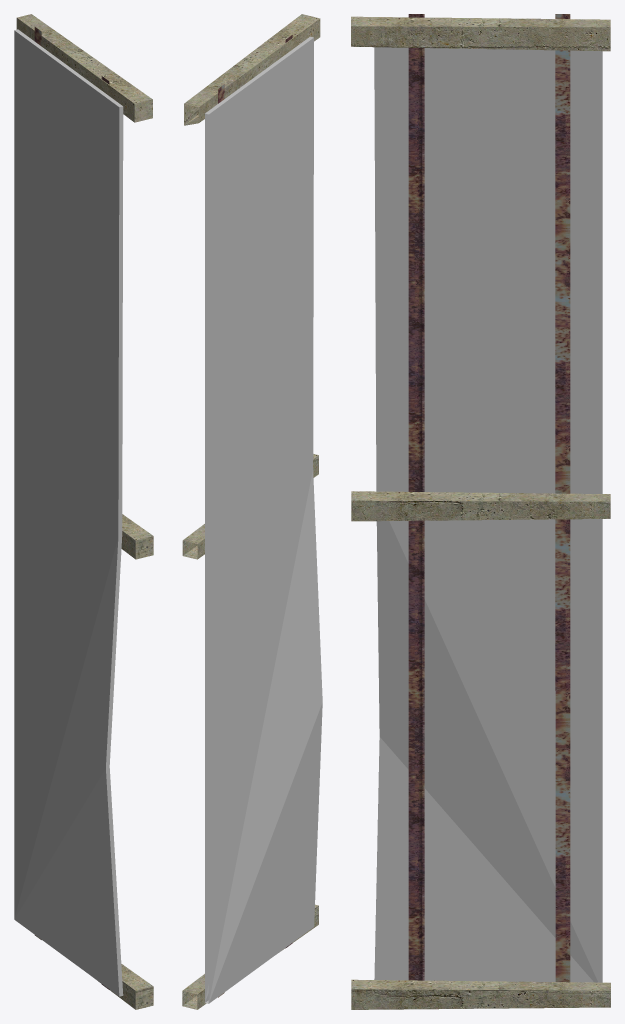
File: zaun_blech_kurz.fbx
3 views of the same model, side by side, from view 1: azimuth 30°, elevation 25°; view 2: azimuth 150°, elevation 25°; view 3: azimuth 270°, elevation 25° (orthographic). The views are drawn at different scales.
Parts seen in each view (by area): view 1: Axis; view 2: Axis; view 3: Axis.
Boxes of the visible parts, x1,y1,x2,y2 form: Axis: (14, 14, 153, 1009); Axis: (182, 14, 322, 1009); Axis: (351, 14, 610, 1009).
Bounding box in the file's own units: 0.6095 × 15.21 × 3.63.
